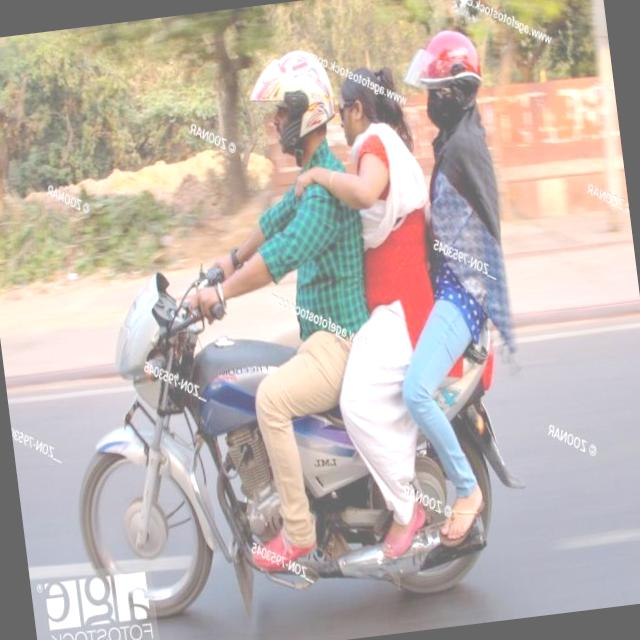motorcycle: (46, 226, 530, 637)
person: (376, 18, 546, 480), (223, 39, 388, 424), (301, 56, 450, 414)
rider_region: (24, 17, 554, 628)
